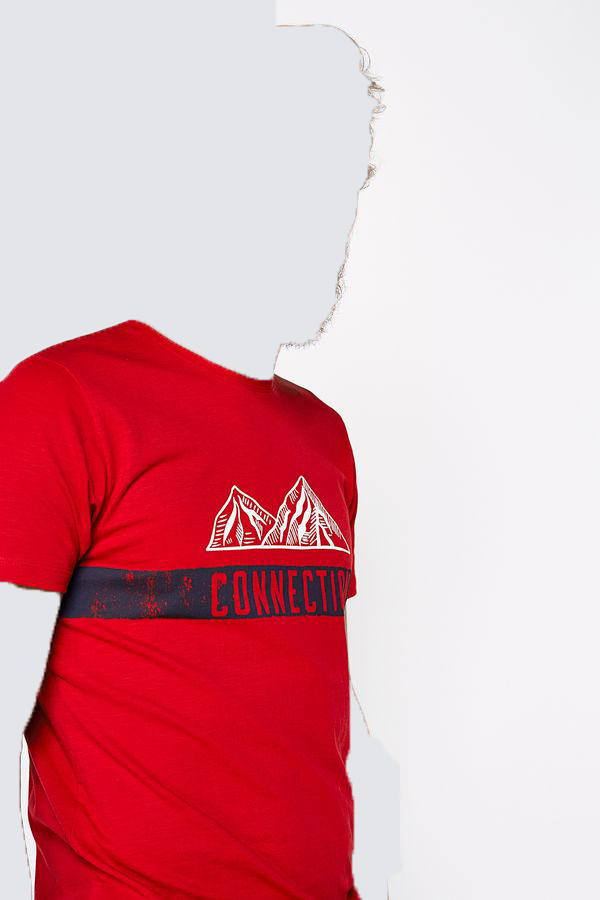teeshirt: (3, 314, 427, 900)
